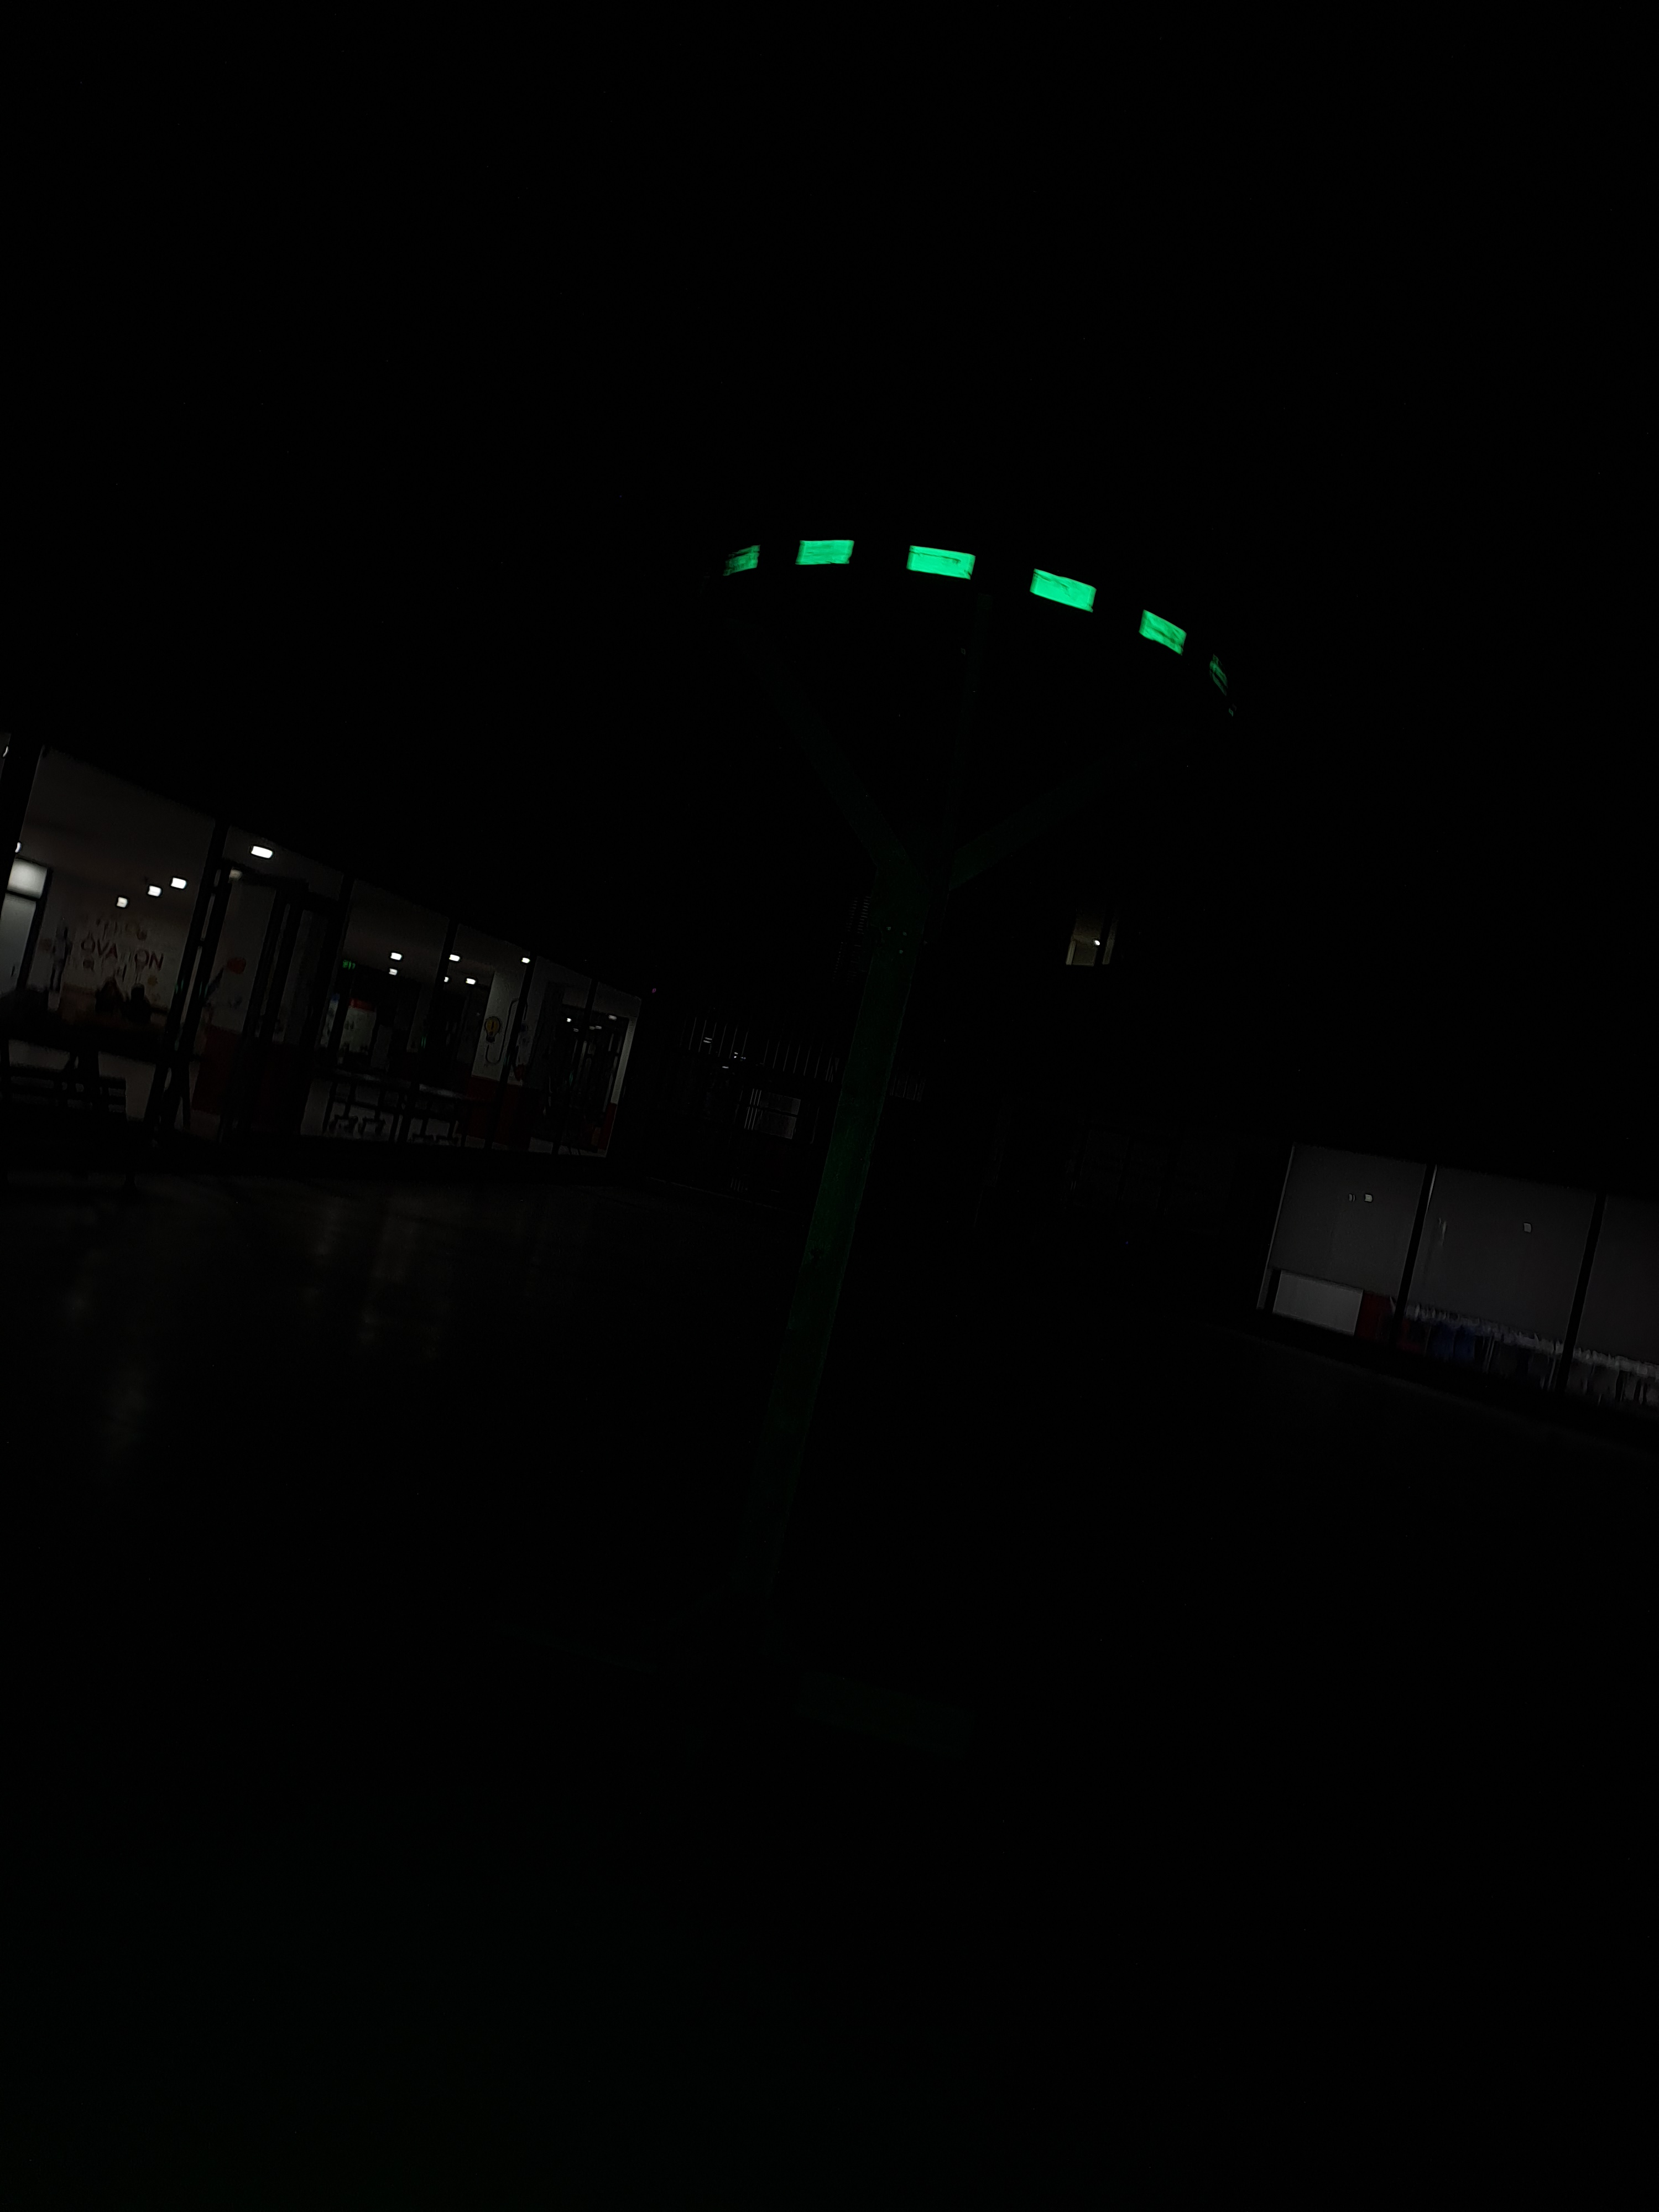hoop: (728, 517, 1192, 681)
